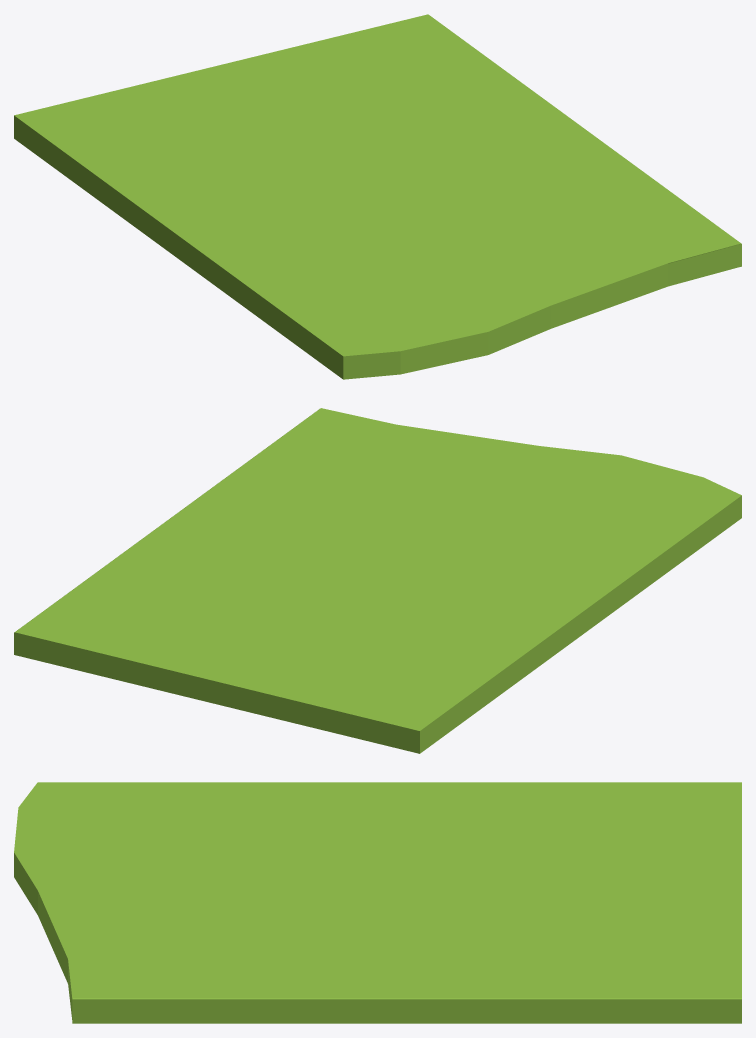
The model's file is gnd_green_03.fbx.
3 renders of one model, top to bottom at view 1: azimuth 30°, elevation 25°; view 2: azimuth 150°, elevation 25°; view 3: azimuth 270°, elevation 25°, orthographic. The views are drawn at different scales.
Parts seen in each view (by area): view 1: gnd_green_03; view 2: gnd_green_03; view 3: gnd_green_03.
Part boxes in pixels (x1,y1,x2,y2): gnd_green_03: [14, 14, 741, 379]; gnd_green_03: [14, 408, 741, 753]; gnd_green_03: [14, 782, 741, 1023].
Bounding box in the file's own units: 7648 × 410 × 10870.
